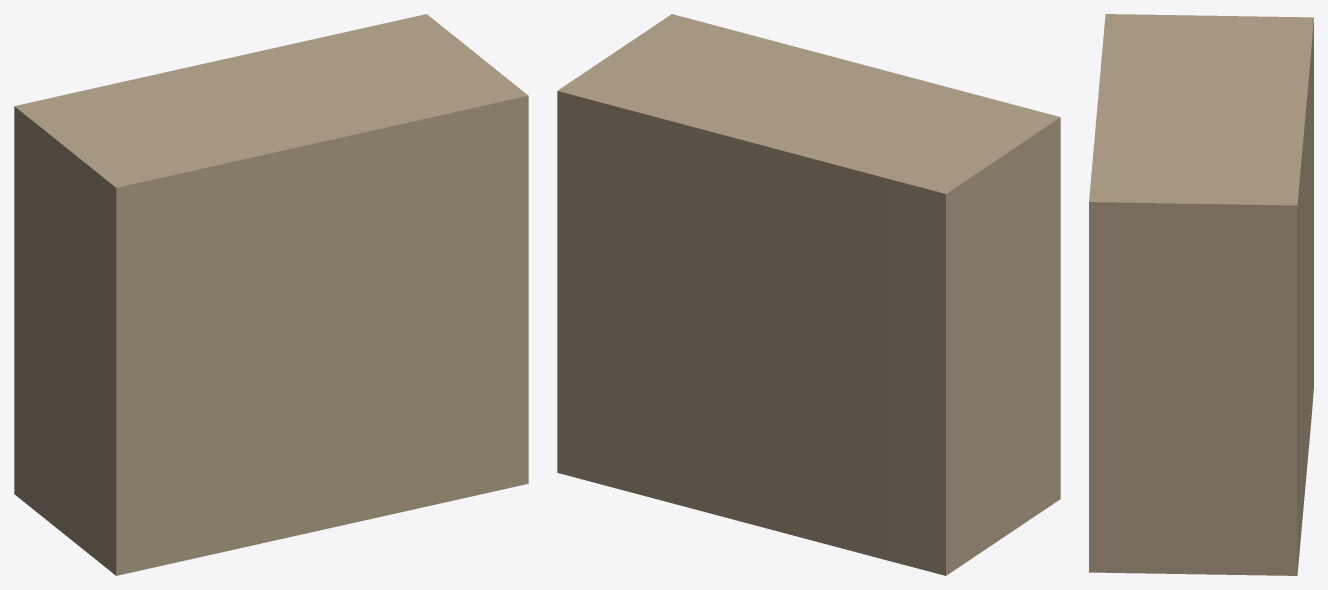
Rendered from bld_106415395.dae.
3 renders of one model, left to right at view 1: azimuth 30°, elevation 25°; view 2: azimuth 150°, elevation 25°; view 3: azimuth 270°, elevation 25°, orthographic. The views are drawn at different scales.
Visible parts, largest first — view 1: bld_106415395; view 2: bld_106415395; view 3: bld_106415395.
Part boxes in pixels (<box>): bld_106415395: <box>14,14,528,575</box>; bld_106415395: <box>557,14,1060,575</box>; bld_106415395: <box>1089,14,1313,575</box>.
Size of the model in its own units: 8.87 by 4.4 by 8.
